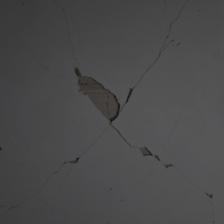Medium: (64, 22, 204, 200)
